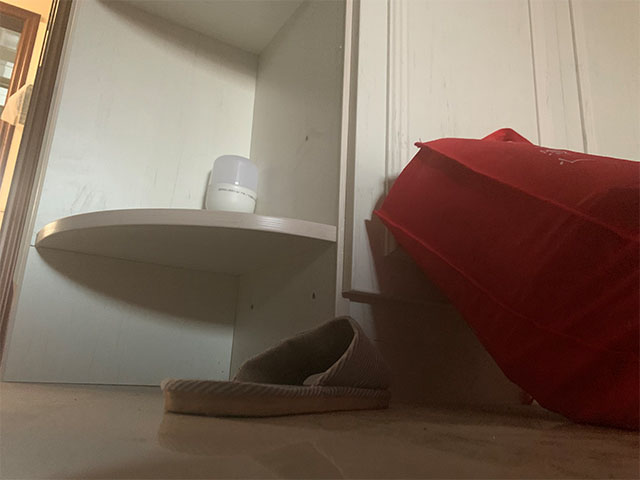cabinet: (1, 1, 599, 400)
slippers: (158, 314, 394, 418)
